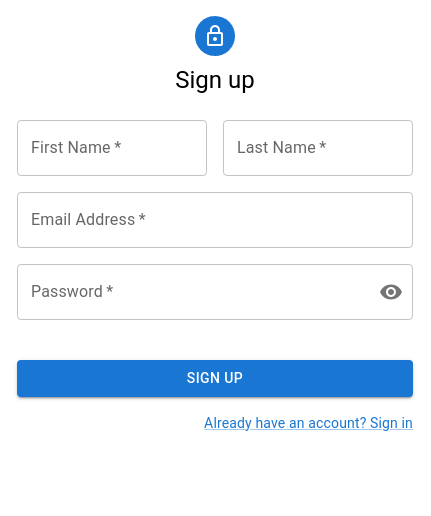
Test: <SignUp /> › Form validation › Submitting empty form › All fields are validated & error messages are rendered
Step 1. Click the button "Sign Up" → (215, 378), box x1=17 y1=360 x2=413 y2=396
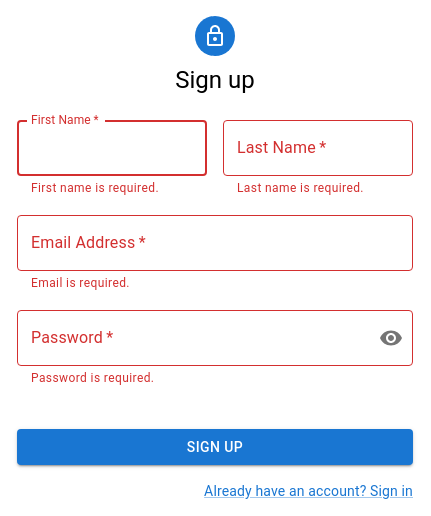
Expected: the text "First name is required." is shown, x1=31 y1=181 x2=159 y2=195
Expected: the text "Last name is required." is shown, x1=237 y1=181 x2=364 y2=195
Expected: the text "Email is required." is shown, x1=31 y1=276 x2=130 y2=290
